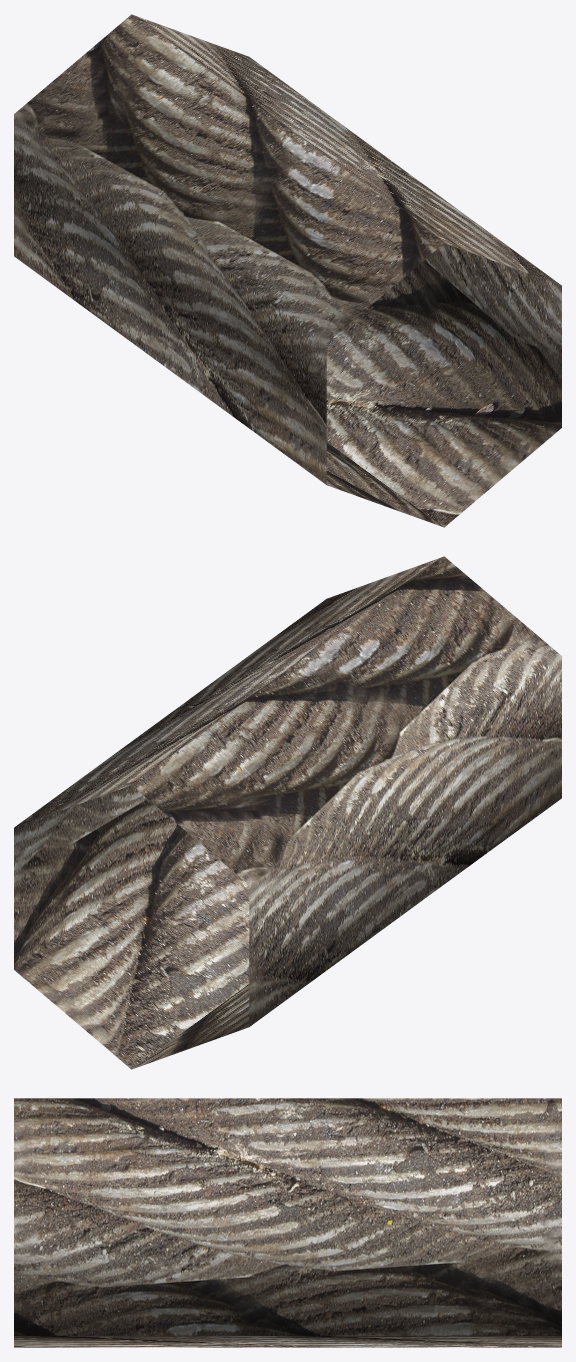
File: rope01.fbx
The picture shows the model from 3 angles, top to bottom: view 1: azimuth 30°, elevation 25°; view 2: azimuth 150°, elevation 25°; view 3: azimuth 270°, elevation 25°; orthographic projection. The views are drawn at different scales.
Parts seen in each view (by area): view 1: pCylinder1; view 2: pCylinder1; view 3: pCylinder1.
Boxes of the visible parts, left/top/right/bottom form: pCylinder1: left=14, top=14, right=561, bottom=527; pCylinder1: left=14, top=556, right=561, bottom=1069; pCylinder1: left=14, top=1098, right=561, bottom=1347.
Size of the model in its own units: 18.15 by 20.96 by 41.78.
Materials: 1 (1 with a texture image).
